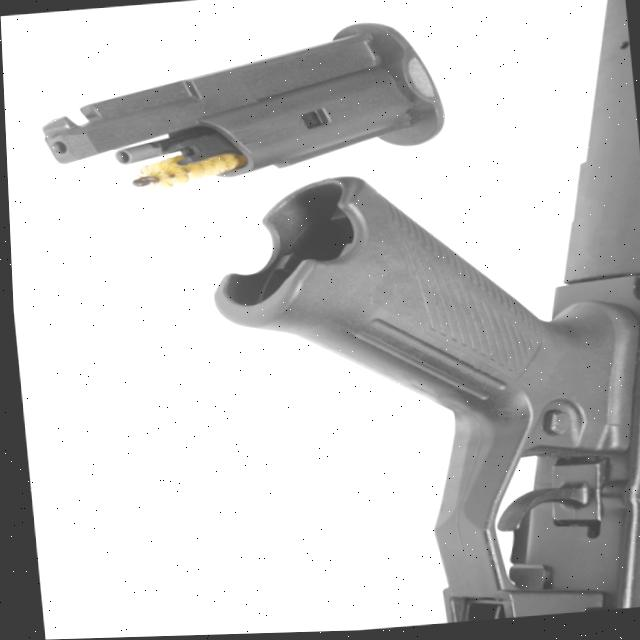firearm: (183, 0, 640, 636)
